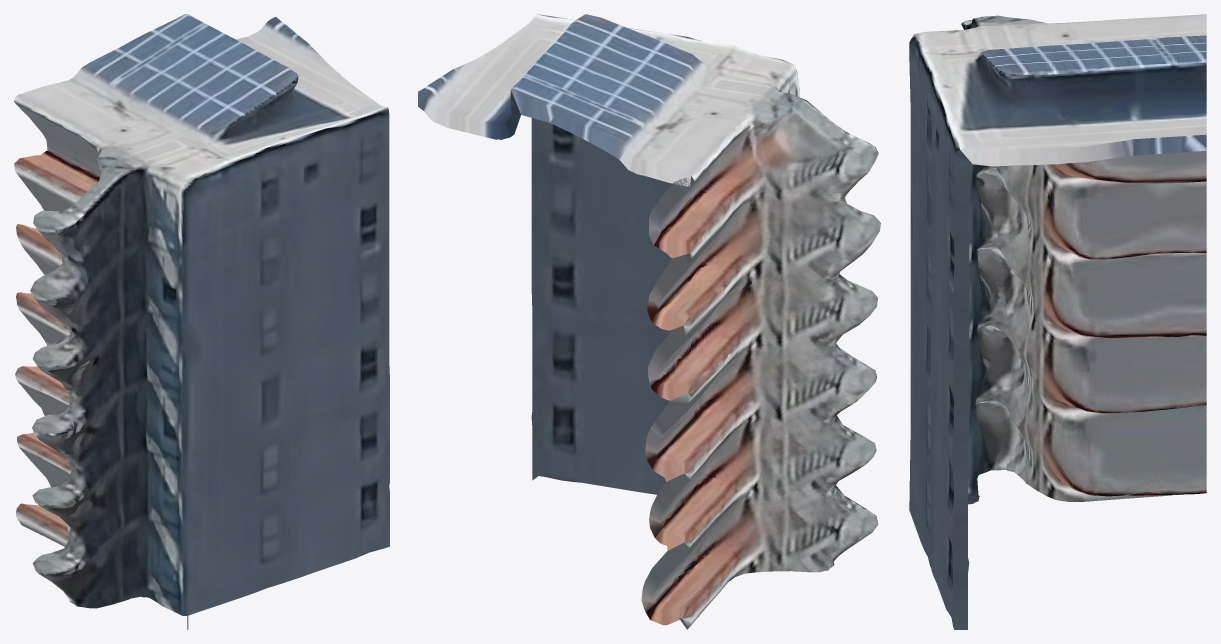
Rendered from z20-167731-405196-h1-yup-uvflip-v3-world.glb.
The picture shows the model from 3 angles, left to right: view 1: azimuth 30°, elevation 25°; view 2: azimuth 150°, elevation 25°; view 3: azimuth 270°, elevation 25°; orthographic projection. The views are drawn at different scales.
Size of the model in its own units: 14.88 by 20.56 by 10.32.
1 material, 1 textured.
